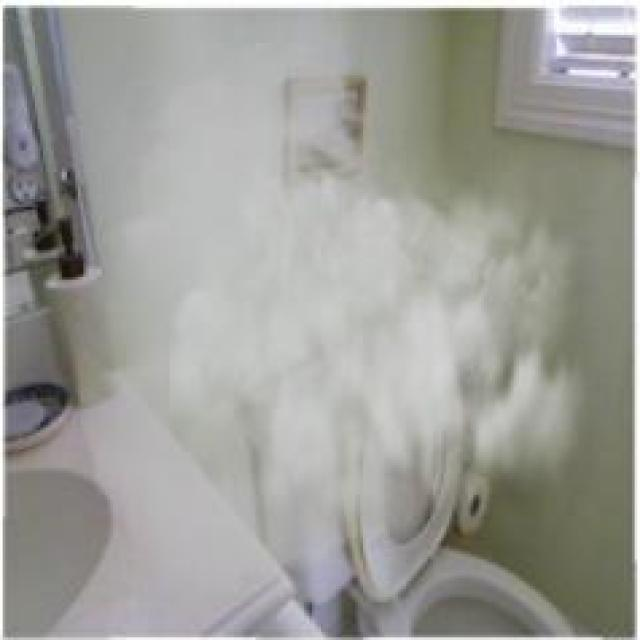fire: (81, 35, 614, 602)
